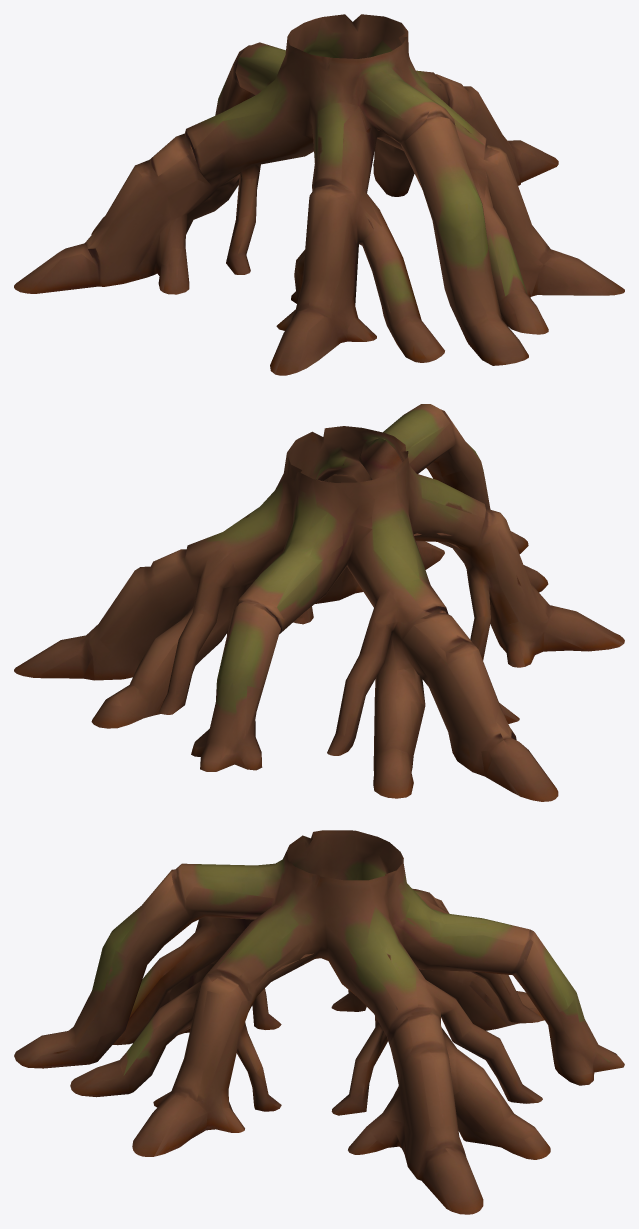
File: Roots_B_LOD1.fbx
3 renders of one model, top to bottom at view 1: azimuth 30°, elevation 25°; view 2: azimuth 150°, elevation 25°; view 3: azimuth 270°, elevation 25°, orthographic.
Visible parts, largest first — view 1: Roots_B_LOD1; view 2: Roots_B_LOD1; view 3: Roots_B_LOD1.
Part boxes in pixels (<box>): Roots_B_LOD1: <box>14,14,624,375</box>; Roots_B_LOD1: <box>14,404,624,801</box>; Roots_B_LOD1: <box>14,830,624,1214</box>.
Size of the model in its own units: 3.8 by 1.59 by 3.79.
